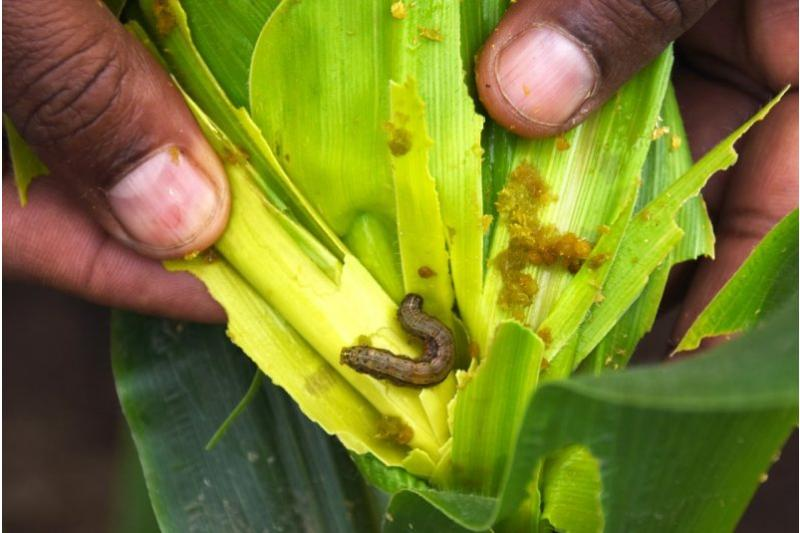fall-armyworm: (340, 295, 456, 391)
